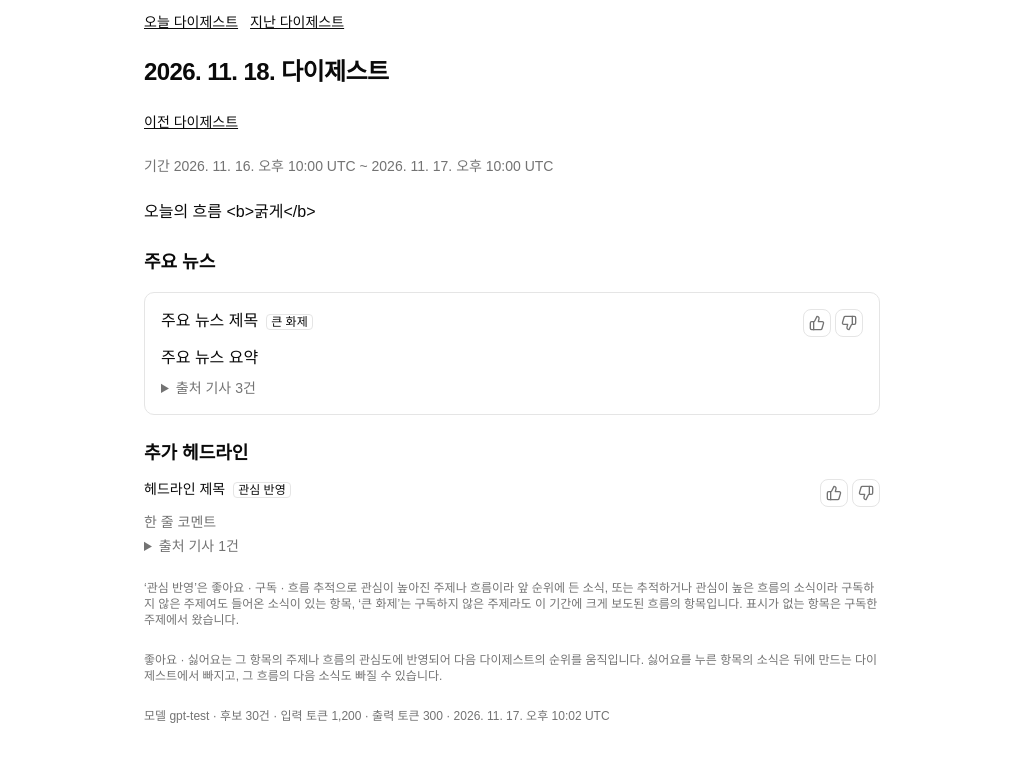
Test case: 다이제스트 화면의 좋아요 · 싫어요 › 받을 수 없는 항목이면 그 항목에 알리고 다이제스트를 다시 읽는다 — 상태는 그대로다
The image size is (1024, 780).
Click the button named "좋아요" in the row of "주요 뉴스 제목": (817, 323) left=803, top=309, right=831, bottom=337
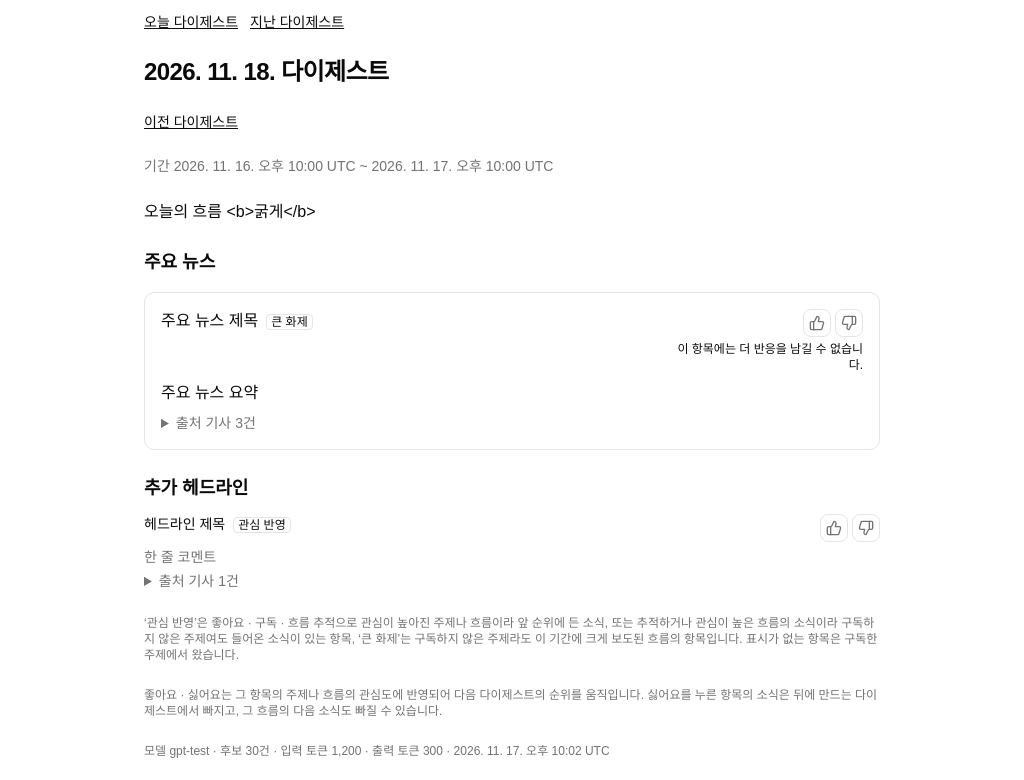
Expected: the message reads "이 항목에는 더 반응을 남길 수 없습니다.", left=677, top=342, right=863, bottom=372
